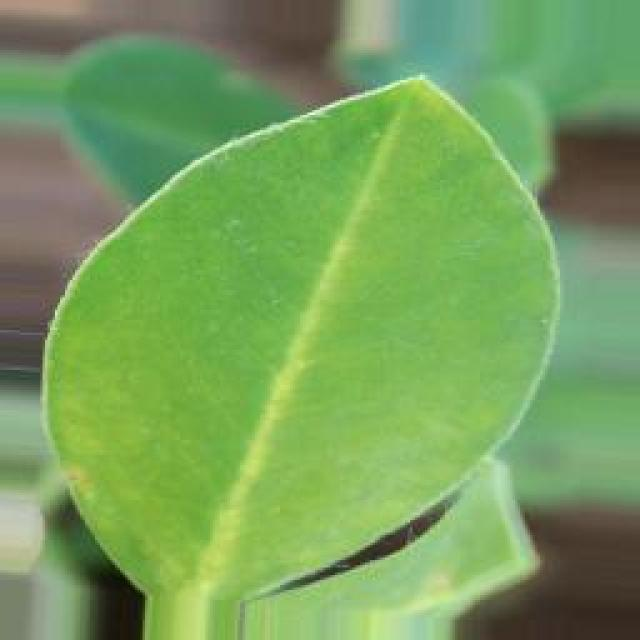Yellow_and_black_sigatoka: (44, 78, 562, 588)
